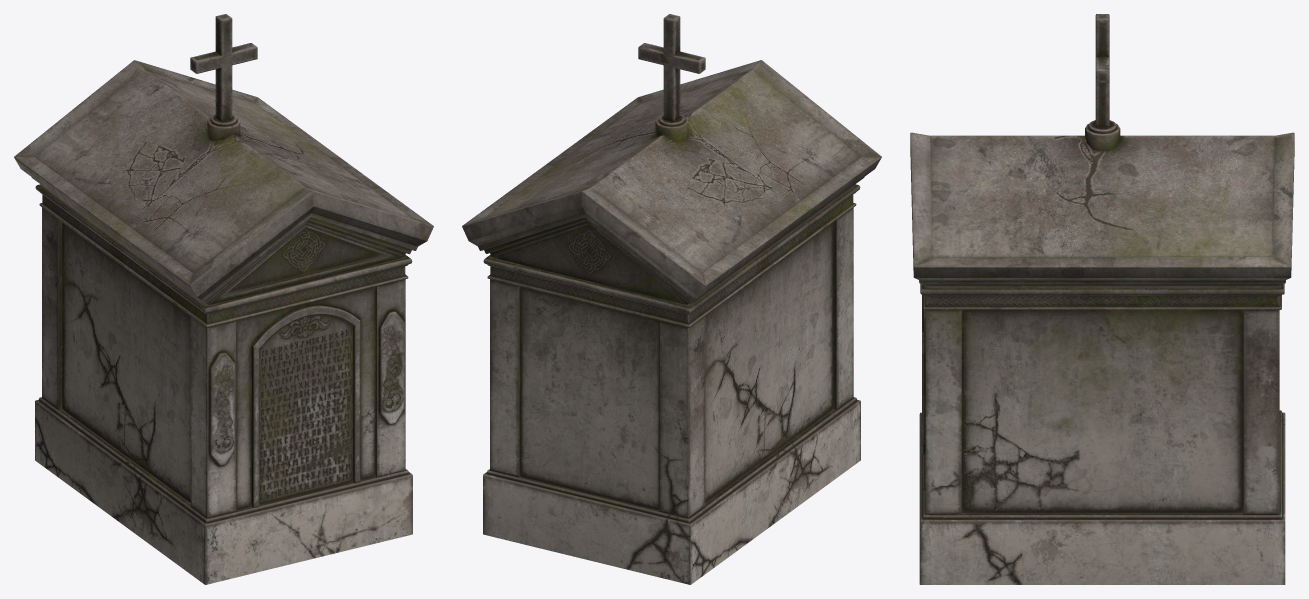
The model's file is SM_crypt_06.fbx.
3 views of the same model, side by side, from view 1: azimuth 30°, elevation 25°; view 2: azimuth 150°, elevation 25°; view 3: azimuth 270°, elevation 25° (orthographic). The views are drawn at different scales.
Visible parts, largest first — view 1: SM_crypt_06; view 2: SM_crypt_06; view 3: SM_crypt_06.
Boxes of the visible parts, left/top/right/bottom form: SM_crypt_06: left=14, top=14, right=433, bottom=584; SM_crypt_06: left=462, top=14, right=881, bottom=584; SM_crypt_06: left=910, top=14, right=1294, bottom=584.
Size of the model in its own units: 190 by 357 by 242.
